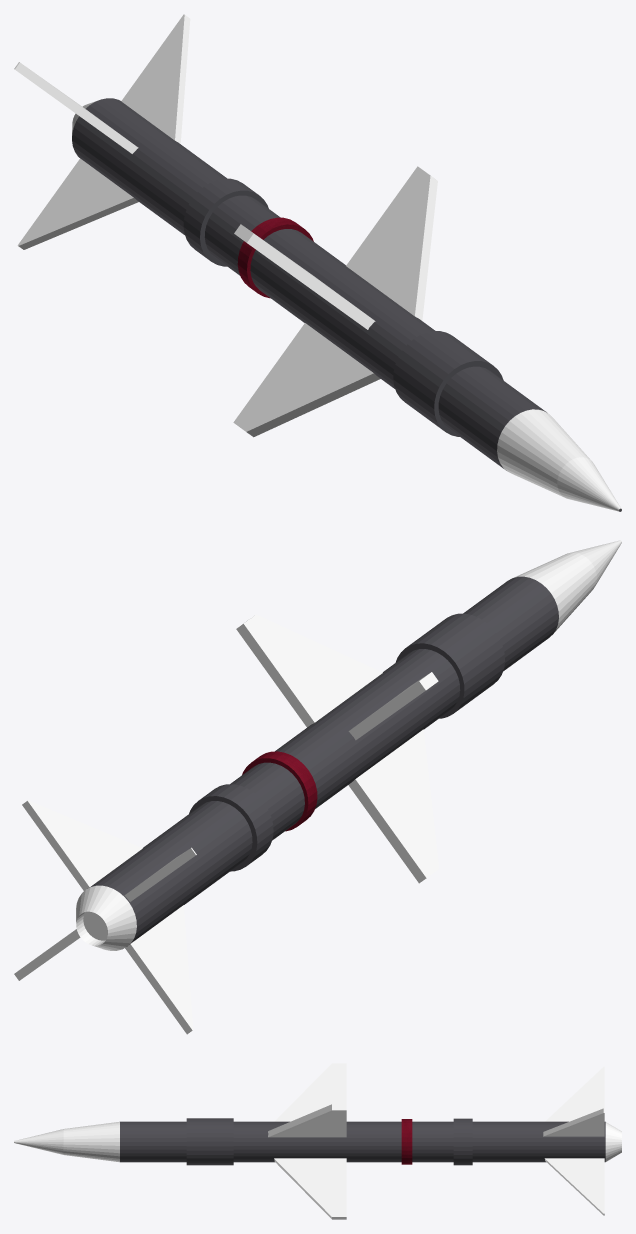
The model's file is missile.obj.
3 views of the same model, one above another, from view 1: azimuth 30°, elevation 25°; view 2: azimuth 150°, elevation 25°; view 3: azimuth 270°, elevation 25° (orthographic). The views are drawn at different scales.
Visible parts, largest first — view 1: 円柱, 立方体, 立方体.002_立方体.001, 円柱.004_円柱.003, 円柱.001, 円柱.002_円柱.001, 立方体.001_立方体, 立方体.003_立方体.001, 円柱.003_円柱.002; view 2: 円柱, 立方体, 立方体.002_立方体.001, 円柱.001, 円柱.004_円柱.003, 円柱.005_円柱.004, 円柱.002_円柱.001, 立方体.003_立方体.001, 円柱.003_円柱.002, 立方体.001_立方体; view 3: 円柱, 立方体.001_立方体, 立方体.003_立方体.001, 円柱.004_円柱.003, 円柱.001, 立方体, 立方体.002_立方体.001, 円柱.002_円柱.001, 円柱.003_円柱.002, 円柱.005_円柱.004.
Part boxes in pixels (x1,y1,x2,y2): 円柱: (72,98,621,511); 立方体: (233,166,437,437); 立方体.002_立方体.001: (17,14,190,249); 円柱.004_円柱.003: (497,409,621,511); 円柱.001: (393,331,503,436); 円柱.002_円柱.001: (183,178,268,266); 立方体.001_立方体: (234,224,375,329); 立方体.003_立方体.001: (14,62,138,153); 円柱.003_円柱.002: (237,217,313,298); 円柱: (87,576,558,944); 立方体: (236,614,439,883); 立方体.002_立方体.001: (22,800,193,1034); 円柱.001: (395,613,504,718); 円柱.004_円柱.003: (513,540,621,633); 円柱.005_円柱.004: (76,885,136,950); 円柱.002_円柱.001: (189,784,273,871); 立方体.003_立方体.001: (14,847,196,980); 円柱.003_円柱.002: (242,751,317,831); 立方体.001_立方体: (348,672,438,740); 円柱: (120,1121,605,1162); 立方体.001_立方体: (274,1063,346,1219); 立方体.003_立方体.001: (544,1066,604,1215); 円柱.004_円柱.003: (14,1121,119,1162); 円柱.001: (186,1118,233,1165); 立方体: (268,1104,346,1137); 立方体.002_立方体.001: (543,1108,604,1136); 円柱.002_円柱.001: (453,1118,472,1165); 円柱.003_円柱.002: (401,1119,412,1164); 円柱.005_円柱.004: (605,1122,621,1161).
Bounding box in the file's own units: 2.06 × 2.22 × 9.78.
7 materials, 7 textured.
